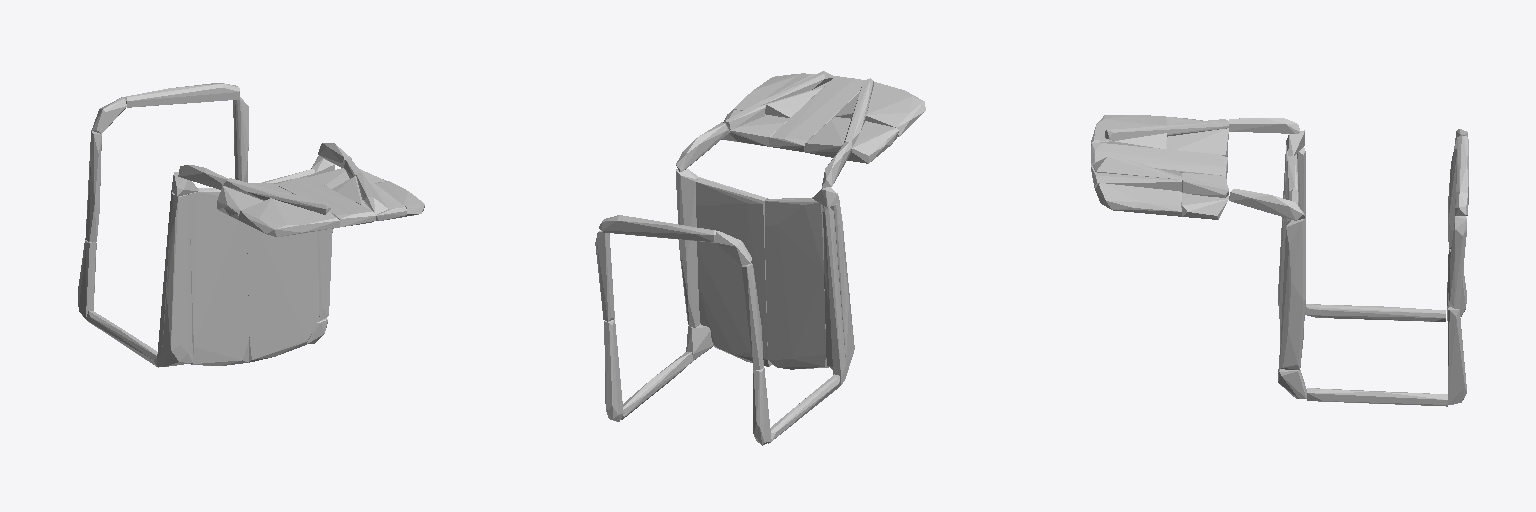
The picture shows the model from 3 angles: view 1: azimuth 30°, elevation 25°; view 2: azimuth 150°, elevation 25°; view 3: azimuth 270°, elevation 25°; orthographic projection.
Visible parts, largest first — view 1: convex_10, convex_11, convex_9, convex_22, convex_19, convex_1, convex_15, convex_7, convex_18, convex_13, convex_6, convex_23 (+8 smaller); view 2: convex_10, convex_11, convex_19, convex_21, convex_15, convex_22, convex_8, convex_9, convex_1, convex_12, convex_7, convex_25 (+13 smaller); view 3: convex_15, convex_19, convex_24, convex_2, convex_3, convex_22, convex_12, convex_21, convex_25, convex_18, convex_13, convex_5 (+8 smaller).
Part boxes in pixels (x1,y1,x2,y2): convex_10: (188,188,249,365); convex_11: (247,169,319,362); convex_9: (162,194,192,366); convex_22: (238,198,339,236); convex_19: (274,177,375,226); convex_1: (124,83,239,107); convex_15: (311,156,334,320); convex_7: (85,131,101,241); convex_18: (223,178,330,214); convex_13: (233,97,248,182); convex_6: (78,240,96,318); convex_23: (332,176,406,220); convex_10: (765,197,828,369); convex_11: (696,177,771,366); convex_19: (769,76,863,151); convex_21: (805,117,898,163); convex_15: (676,169,700,327); convex_22: (835,82,925,136); convex_8: (822,206,845,385); convex_9: (823,203,854,375); convex_1: (599,215,716,242); convex_12: (604,319,623,421); convex_7: (742,263,763,369); convex_25: (722,110,789,146); convex_15: (1279,219,1305,369); convex_19: (1091,143,1227,178); convex_24: (1095,183,1181,216); convex_2: (1306,304,1445,321); convex_3: (1307,388,1447,406); convex_22: (1091,115,1166,148); convex_12: (1448,307,1466,404); convex_21: (1167,117,1228,156); convex_25: (1182,173,1228,219); convex_18: (1105,119,1228,140); convex_13: (1448,216,1466,308); convex_5: (1229,189,1305,220).
Bounding box in the file's own units: 0.432 × 0.5611 × 0.8147.